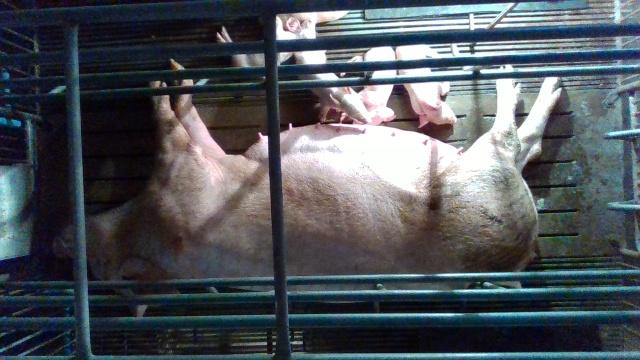piglet: (289, 27, 370, 123), (209, 17, 312, 75), (392, 44, 457, 127), (354, 46, 398, 124)
sow-sleep-lactate: (50, 55, 565, 319)
